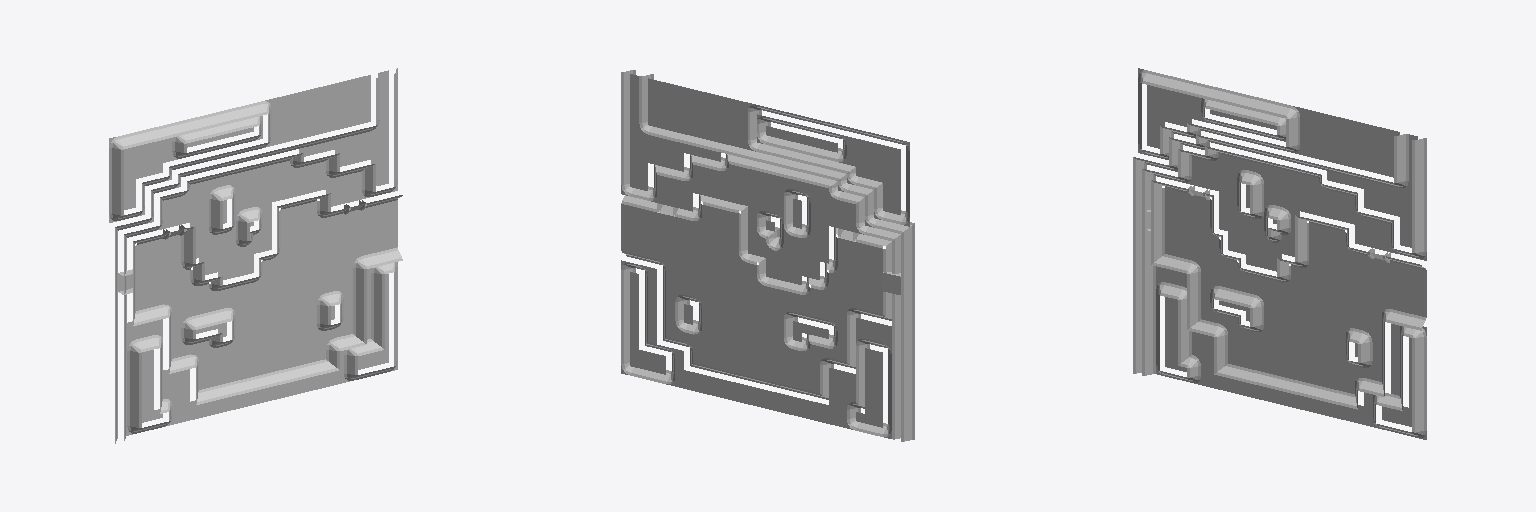
File: Plat_full_12_10.obj
3 views of the same model, side by side, from view 1: azimuth 30°, elevation 25°; view 2: azimuth 150°, elevation 25°; view 3: azimuth 330°, elevation 25° (orthographic).
Visible parts, largest first — view 1: map; view 2: map; view 3: map.
Part boxes in pixels (x1,y1,x2,y2): map: (109,68,402,443); map: (621,70,914,441); map: (1133,68,1426,439).
Size of the model in its own units: 32 by 32 by 1.06.